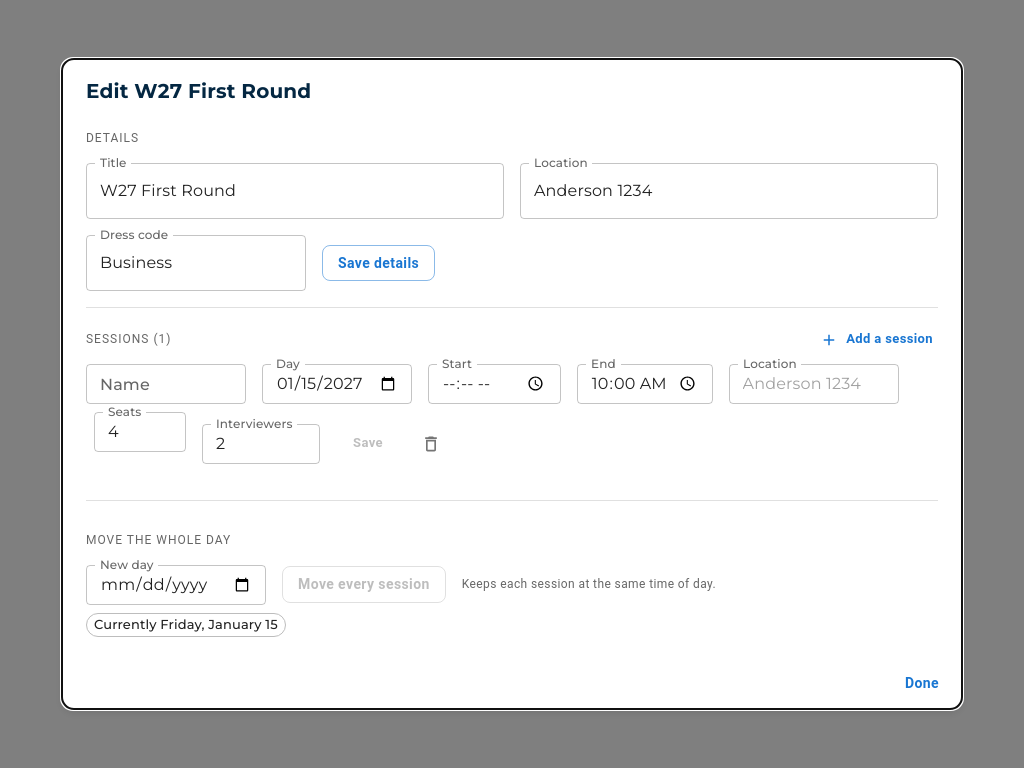
Scenario: InterviewEditDialog › refuses a session with a blank time instead of keeping the old one quietly
This screenshot has width=1024, height=768.
Clear the time field labelled "Start" at (494, 384), box [428, 364, 561, 404]
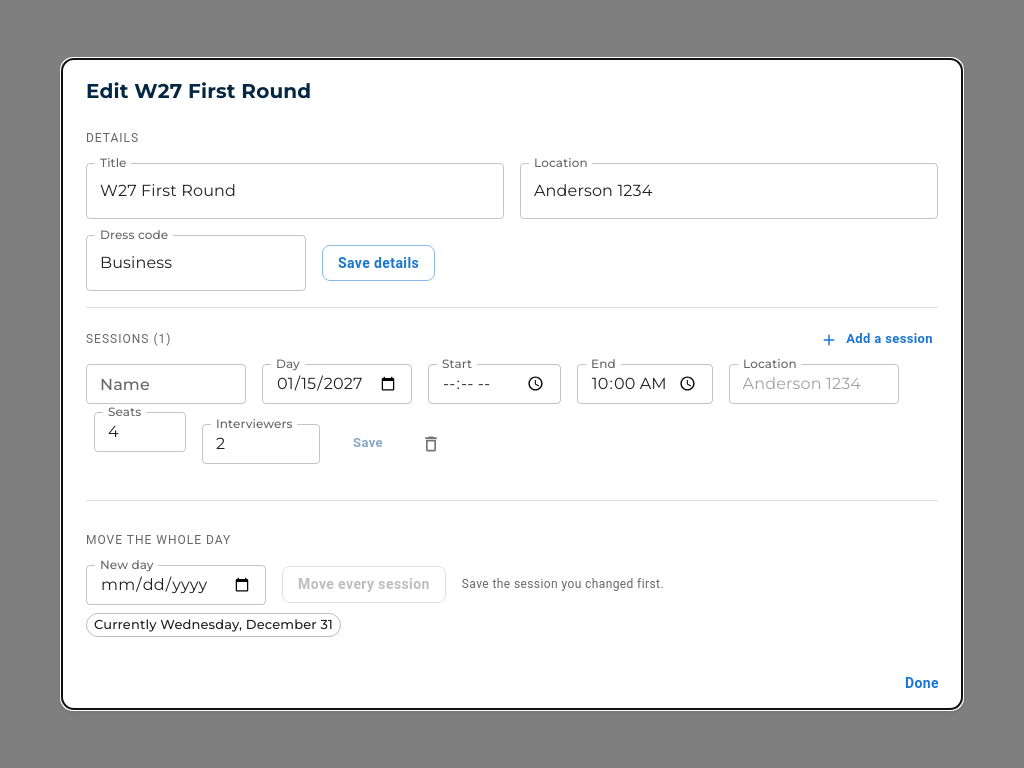
Click the button "Save" at (368, 444), box [336, 428, 400, 459]
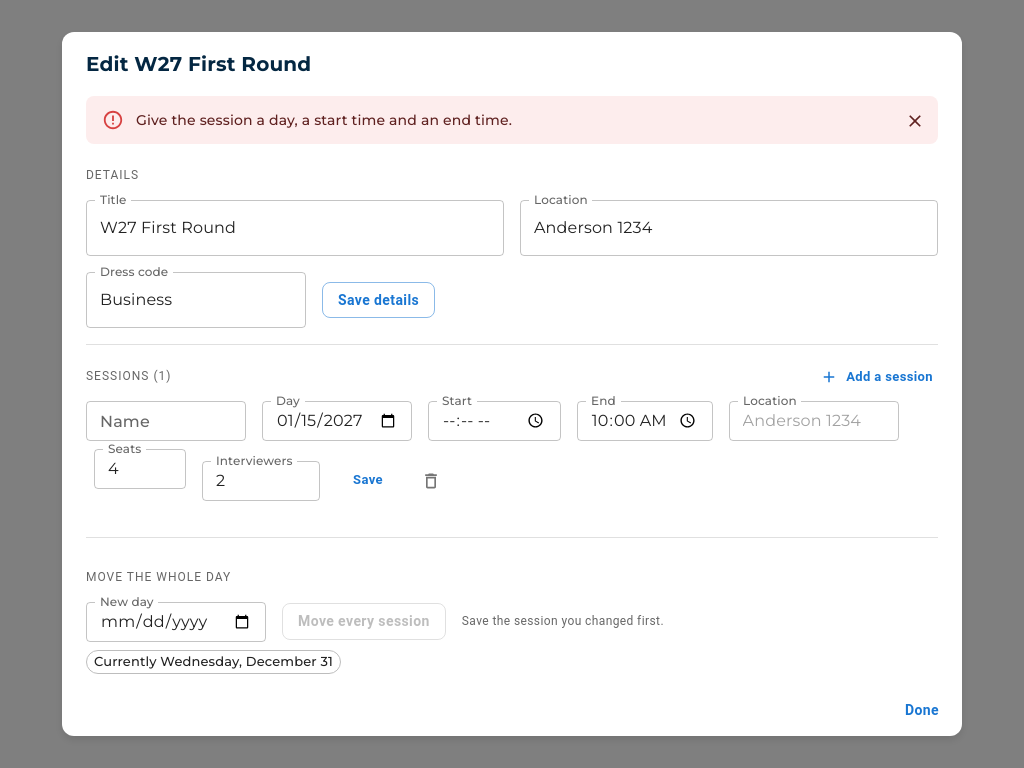
Expected: the text "Give the session a day, a start time and an end time." is shown, [136, 111, 512, 129]
